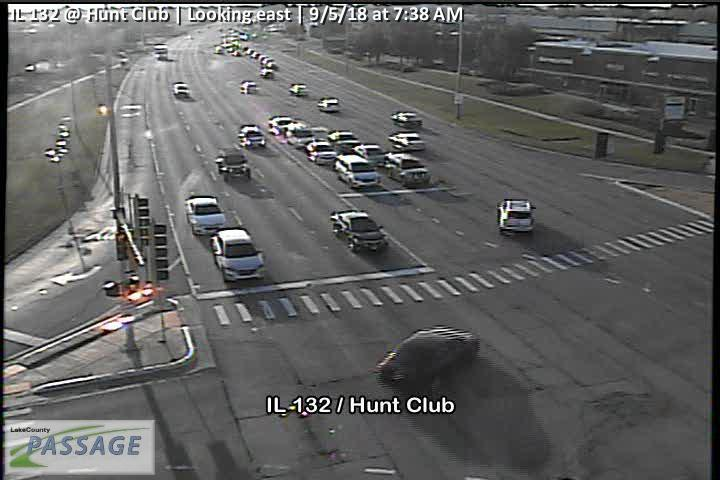Sedan: (374, 324, 477, 396), (208, 227, 267, 281), (329, 210, 389, 254), (184, 195, 228, 237), (335, 152, 379, 189), (384, 150, 428, 182), (496, 197, 535, 233), (216, 146, 250, 183), (351, 141, 386, 165), (325, 129, 361, 152), (286, 121, 315, 148), (304, 139, 335, 164), (389, 131, 426, 151), (238, 125, 267, 149), (268, 114, 298, 134), (392, 111, 423, 127), (317, 97, 340, 112)
